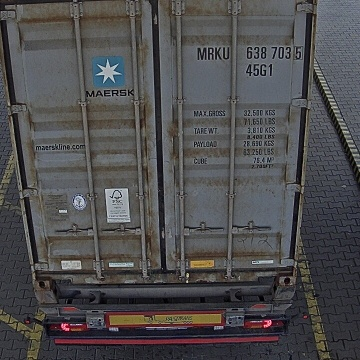serial_id: (197, 46, 303, 60)
